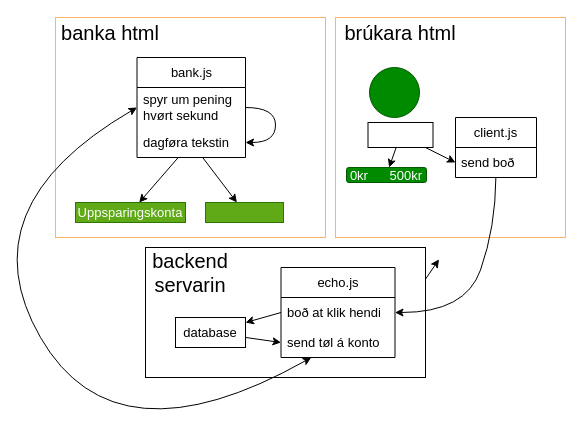
The diagram is 584 pixels wide and 427 high, and some of its shapes have lost their labels. Each missing label, with the centre of its shape:
50kr: the point at 394,92
Innlánskonta: the point at 244,212
knød klik: the point at 400,135
